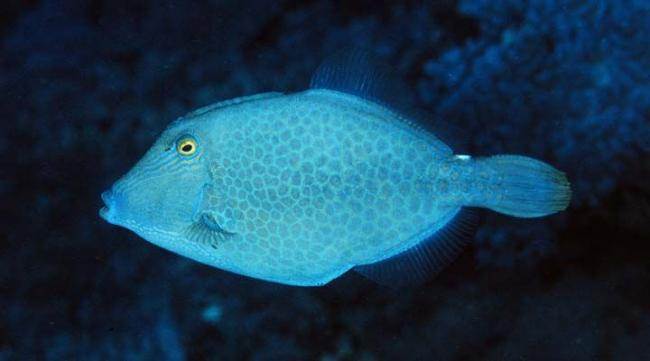fish: (102, 62, 571, 287)
